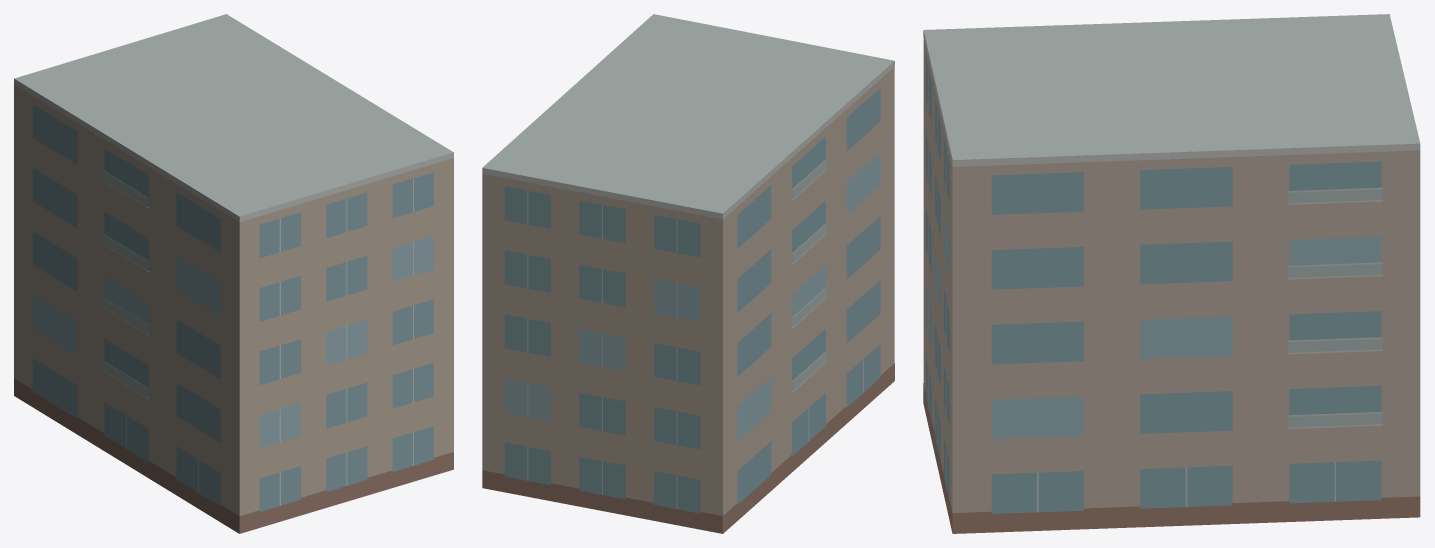
Rendered from survey-upis-32699130.glb.
3 views of the same model, side by side, from view 1: azimuth 30°, elevation 25°; view 2: azimuth 150°, elevation 25°; view 3: azimuth 270°, elevation 25° (orthographic). The views are drawn at different scales.
Visible parts, largest first — view 1: survey-upis-32699130.tmp; view 2: survey-upis-32699130.tmp; view 3: survey-upis-32699130.tmp.
Part boxes in pixels (box(x1,y1,x2,y2)): survey-upis-32699130.tmp: box(14, 14, 453, 533); survey-upis-32699130.tmp: box(482, 14, 894, 533); survey-upis-32699130.tmp: box(923, 14, 1420, 533).
Bounding box in the file's own units: 11.37 × 13.55 × 16.34.
